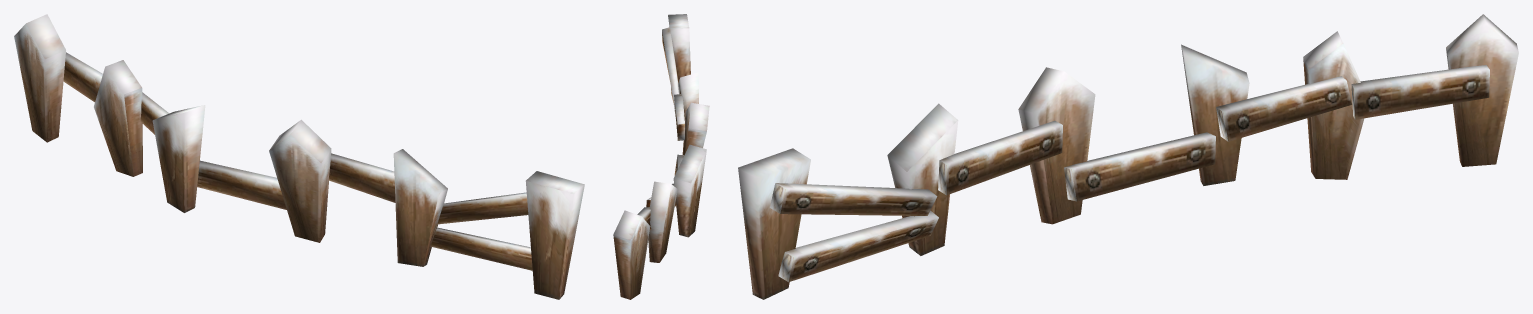
File: SM_Enclosure_24.fbx
3 renders of one model, left to right at view 1: azimuth 30°, elevation 25°; view 2: azimuth 150°, elevation 25°; view 3: azimuth 270°, elevation 25°, orthographic. The views are drawn at different scales.
Parts seen in each view (by area): view 1: SM_Enclosure_24; view 2: SM_Enclosure_24; view 3: SM_Enclosure_24.
Boxes of the visible parts, x1,y1,x2,y2 form: SM_Enclosure_24: [14, 14, 584, 299]; SM_Enclosure_24: [613, 14, 709, 299]; SM_Enclosure_24: [738, 14, 1518, 299].
Bounding box in the file's own units: 2.5 × 1.09 × 5.29.
